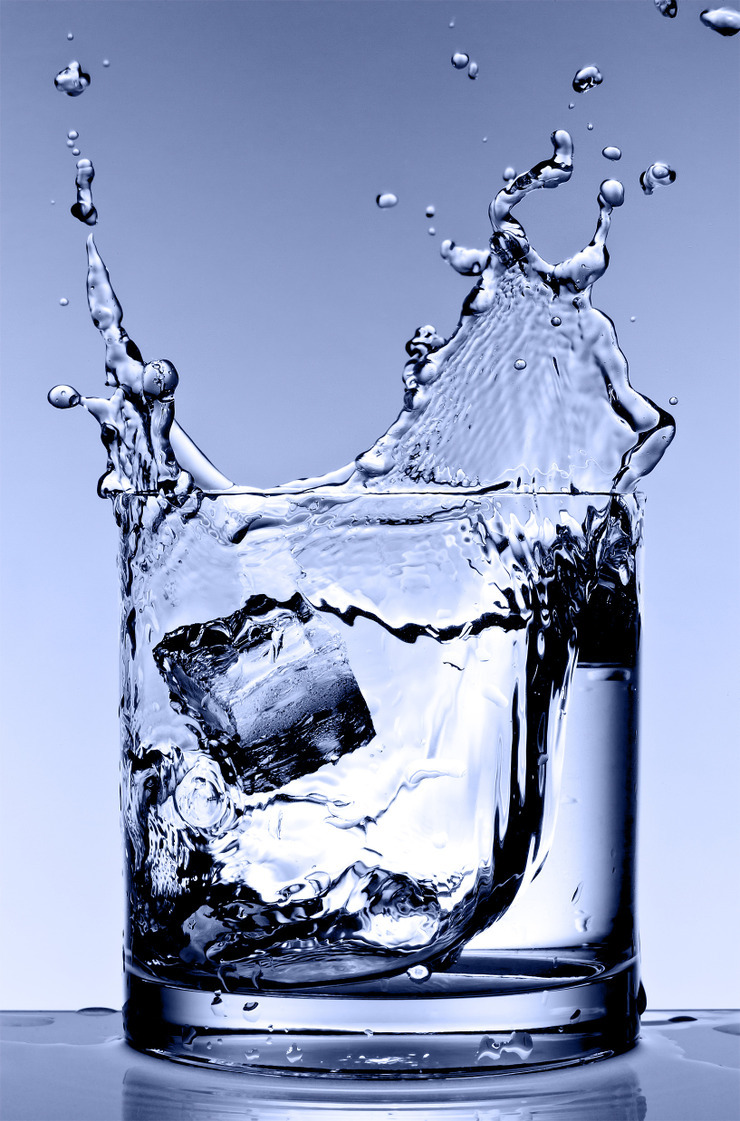glass of water: (69, 387, 685, 1107)
